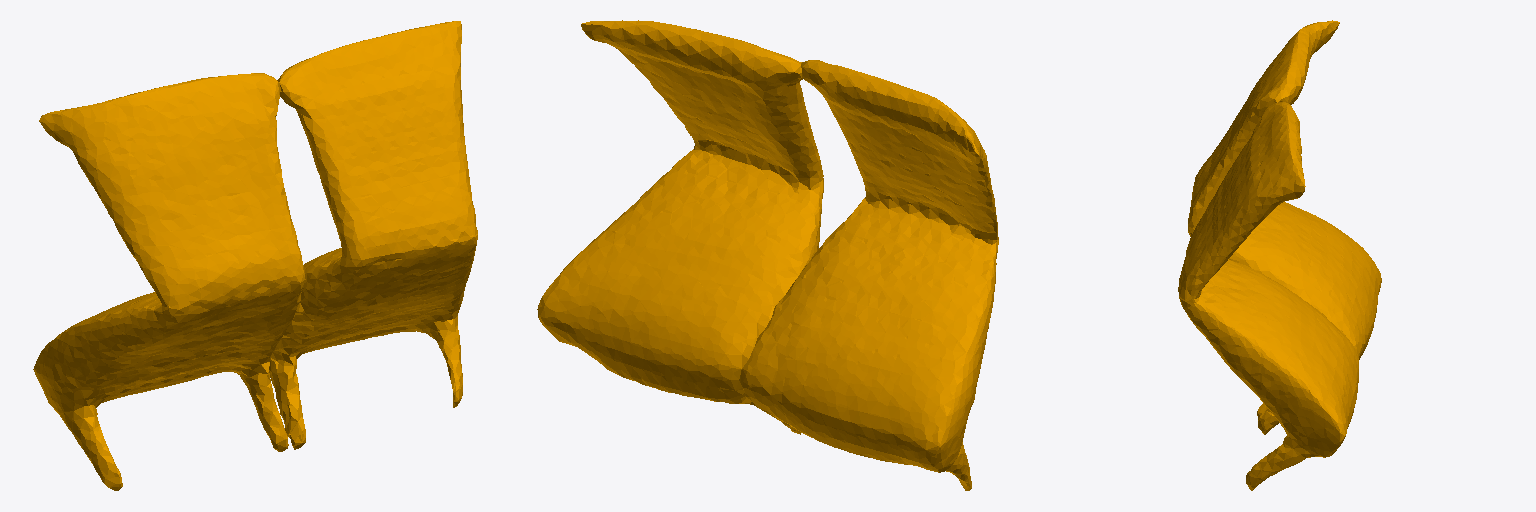
robot.urdf — model_1778239842:
<?xml version="1.0" ?>
<robot name="model_1778239842">
  <link name="base_link">
    <inertial>
      <origin xyz="-0.00983338243579977 -0.07047655722372469 1.261729187071448" rpy="0 0 0"/>
      <mass value="1.826006819143946"/>
      <inertia ixx="0.7903180603663753" ixy="0.0010902252999647768" ixz="-0.06406290946433225" iyy="1.16238571056675" iyz="-0.16783783545967448" izz="1.6341415073910455"/>
    </inertial>
    <visual>
      <origin xyz="0 0 1.3020261526107788" rpy="0 0 0"/>
      <geometry>
        <mesh filename="visual.obj" scale="3.0 3.0 3.0"/>
      </geometry>
    </visual>
    <collision>
      <origin xyz="0 0 1.3020261526107788" rpy="0 0 0"/>
      <geometry>
        <mesh filename="collision.obj" scale="3.0 3.0 3.0"/>
      </geometry>
    </collision>
  </link>
</robot>

--- Facts derived from the render (not from the file) ---
Views: 3 orthographic renders of the robot side by side, from view 1: azimuth 30°, elevation 25°; view 2: azimuth 150°, elevation 25°; view 3: azimuth 270°, elevation 25°.
Model model_1778239842 with 1 links and 0 joints (none), rooted at base_link, posed all joints at 0.
Visible links, largest first — view 1: base_link; view 2: base_link; view 3: base_link.
Link boxes in pixels (<box>): base_link: <box>33,21,477,490</box>; base_link: <box>537,20,998,490</box>; base_link: <box>1178,20,1381,490</box>.
Bounding box of the posed robot: 3 × 1.39 × 2.6 m (x, y, z).
Meshes: 1 distinct files referenced, 1 mesh visuals loaded (1 OBJ).
